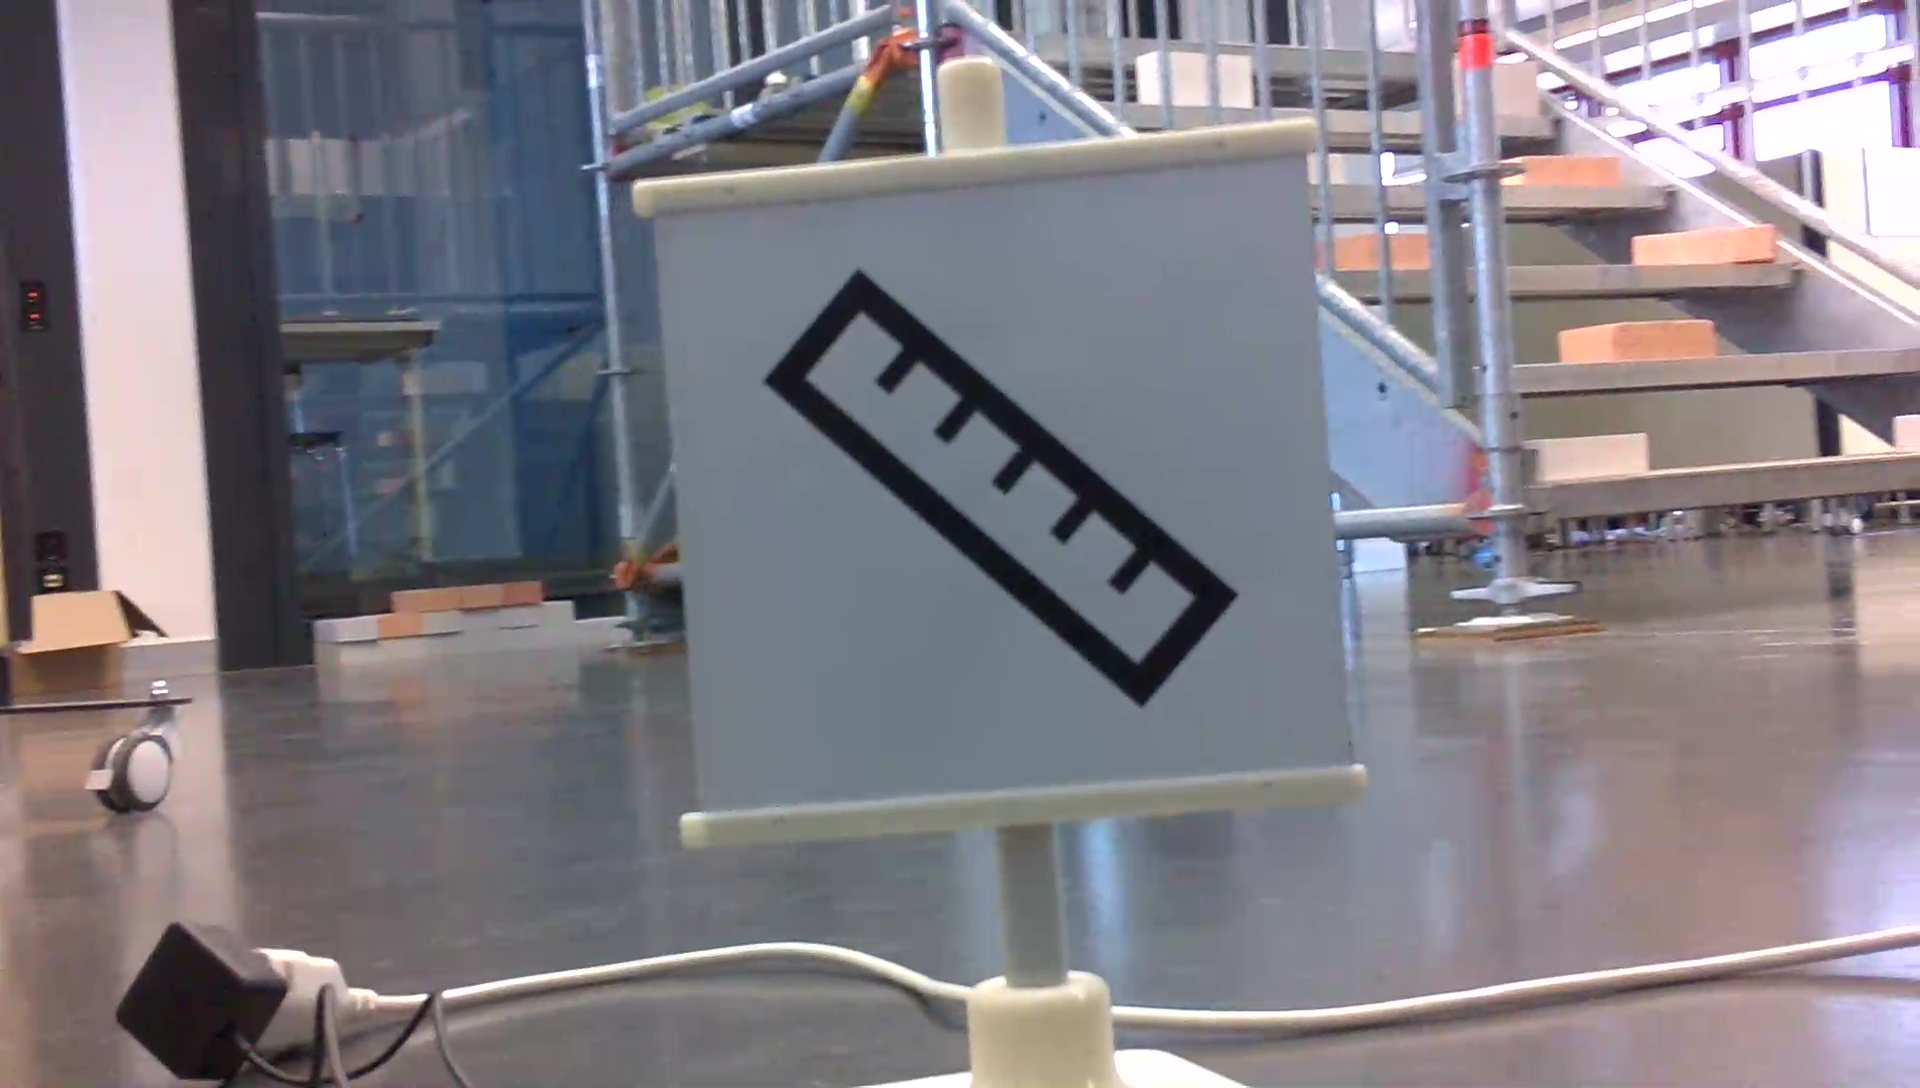brick: (1575, 313, 1726, 365), (1139, 50, 1262, 106), (1633, 218, 1779, 261), (1493, 142, 1625, 185), (1327, 227, 1433, 273), (1468, 57, 1532, 106)
edge: (1491, 335, 1920, 396), (1491, 249, 1797, 294), (1539, 477, 1920, 510), (1478, 183, 1656, 202)
ruler: (756, 243, 1232, 735)
